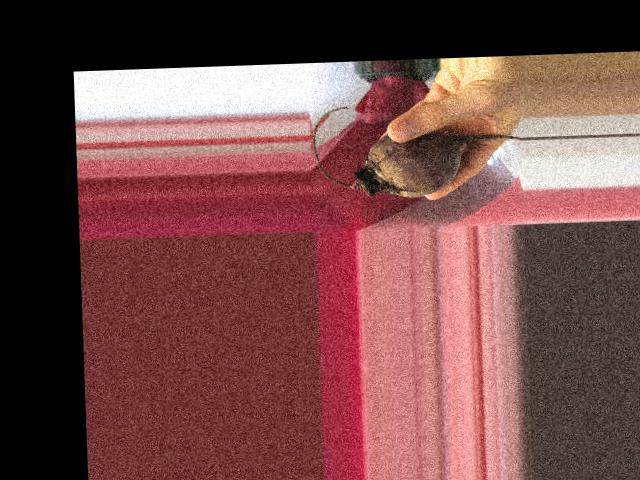beet: (310, 100, 523, 200)
